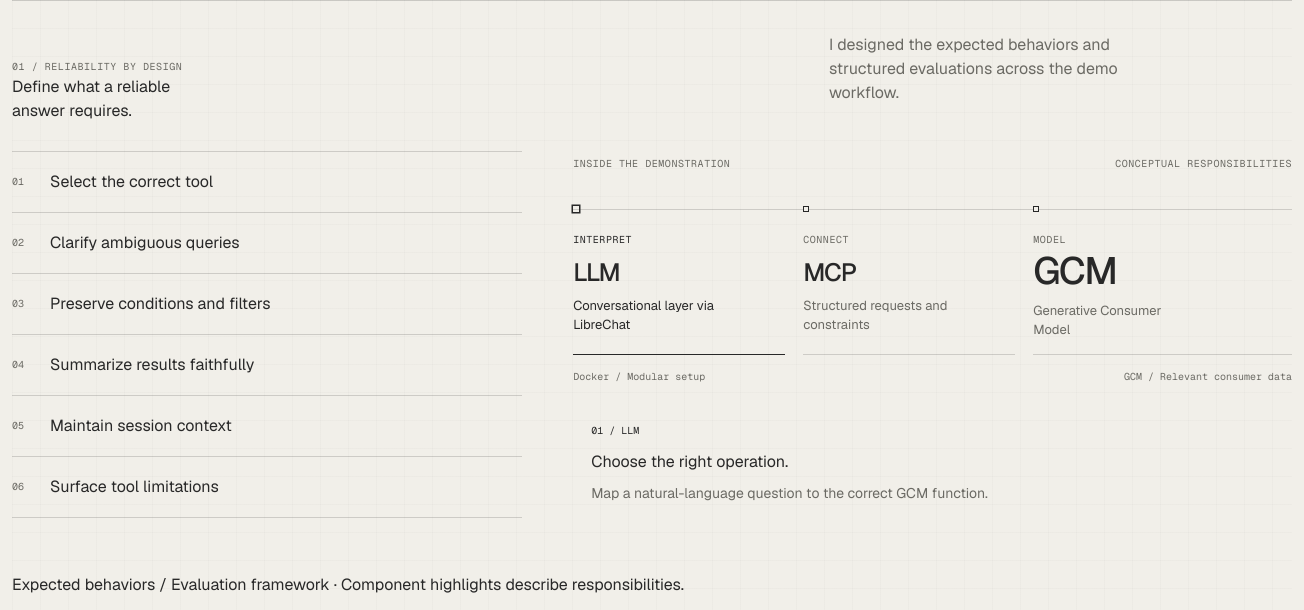
Test: GCM ledger using mouse › connects Select the correct tool to its requirement and responsible components
Click the button "06 Surface tool limitations". click: (134, 486)
box: x1=12 y1=457 x2=522 y2=518
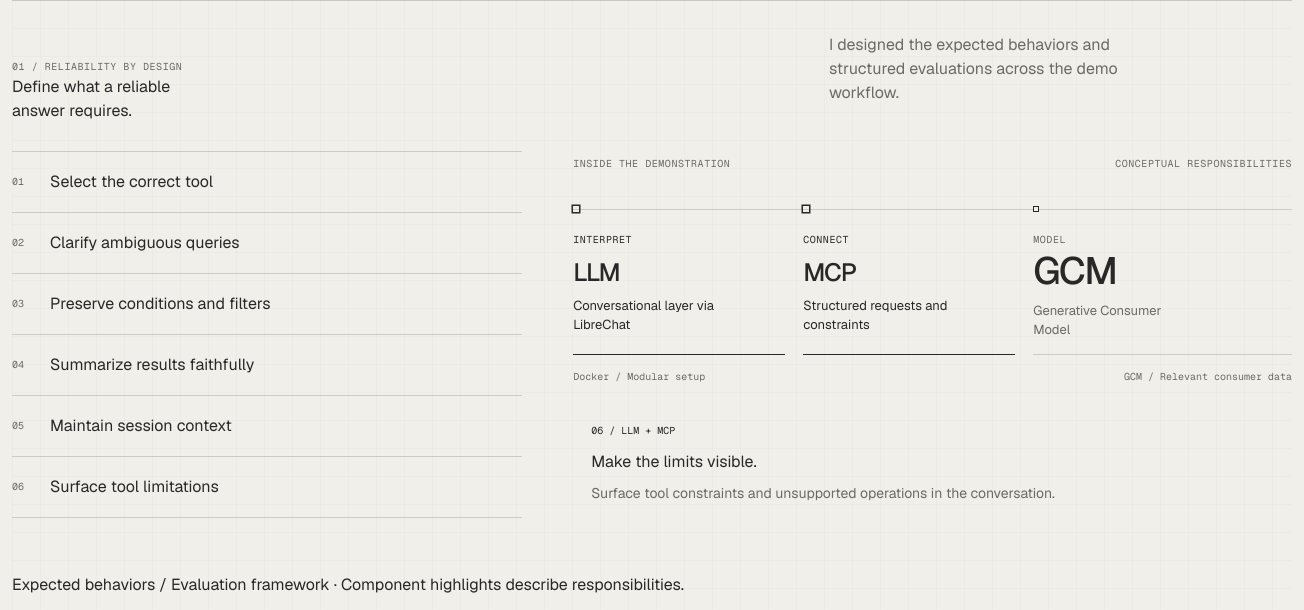
Hover over the button "01 Select the correct tool" at (132, 181), box x1=12 y1=152 x2=522 y2=213
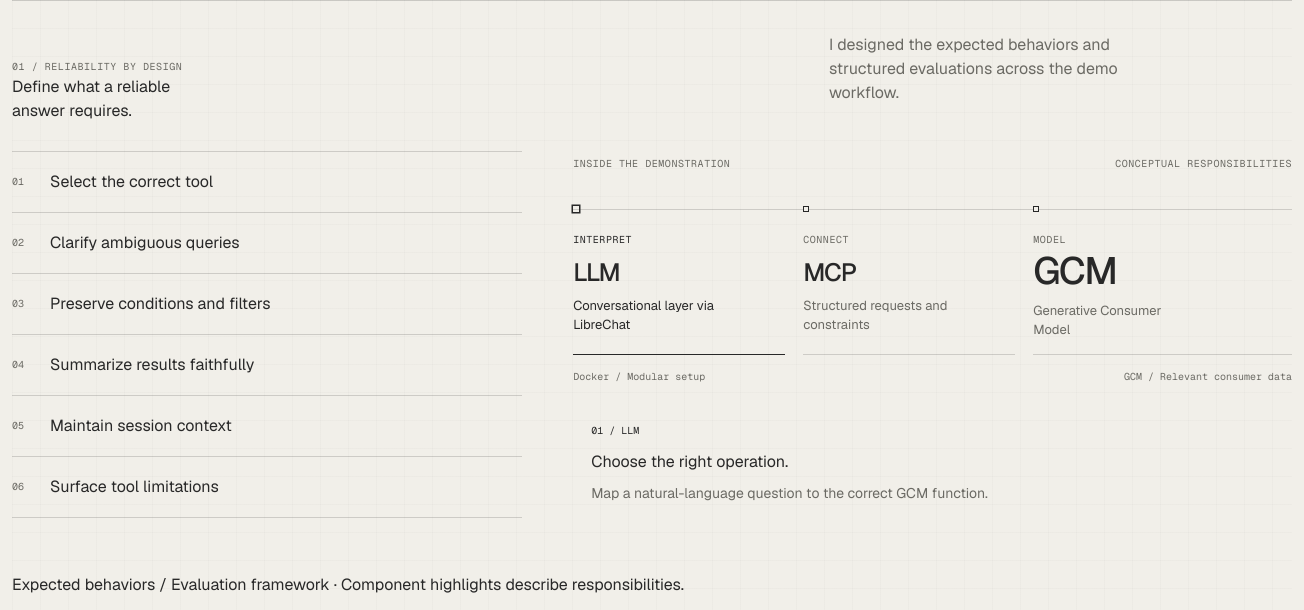
Expected: the heading "Choose the right operation." is shown, x1=591 y1=451 x2=788 y2=472
